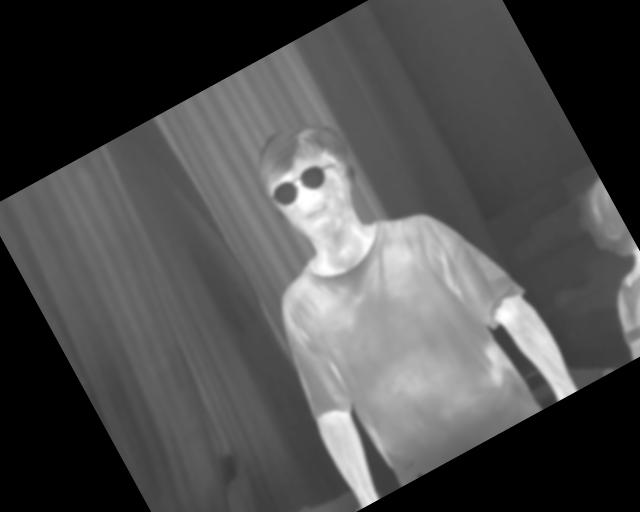face: (242, 106, 379, 254)
